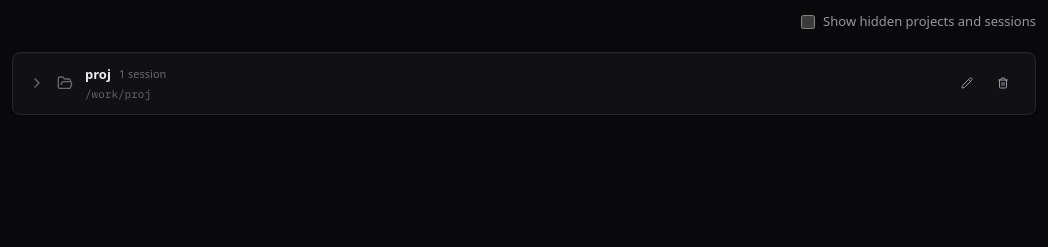
Test: project rename › keeps the editor open when saving fails
Click the button named "Rename proj": click(967, 83) x1=951 y1=69 x2=983 y2=97
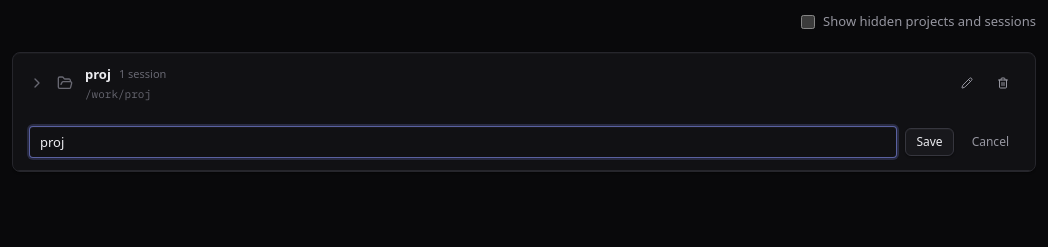
Click the button "Save": click(930, 142) x1=906 y1=128 x2=954 y2=156
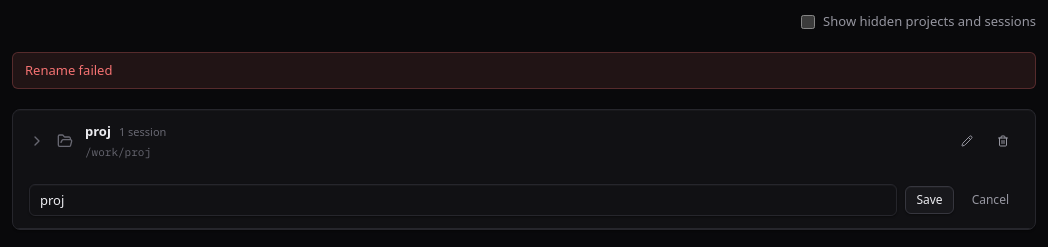
Result: the field named "Project name" is shown at x1=29 y1=184 x2=898 y2=216
Result: the text "Rename failed" is shown at x1=12 y1=52 x2=1036 y2=89
